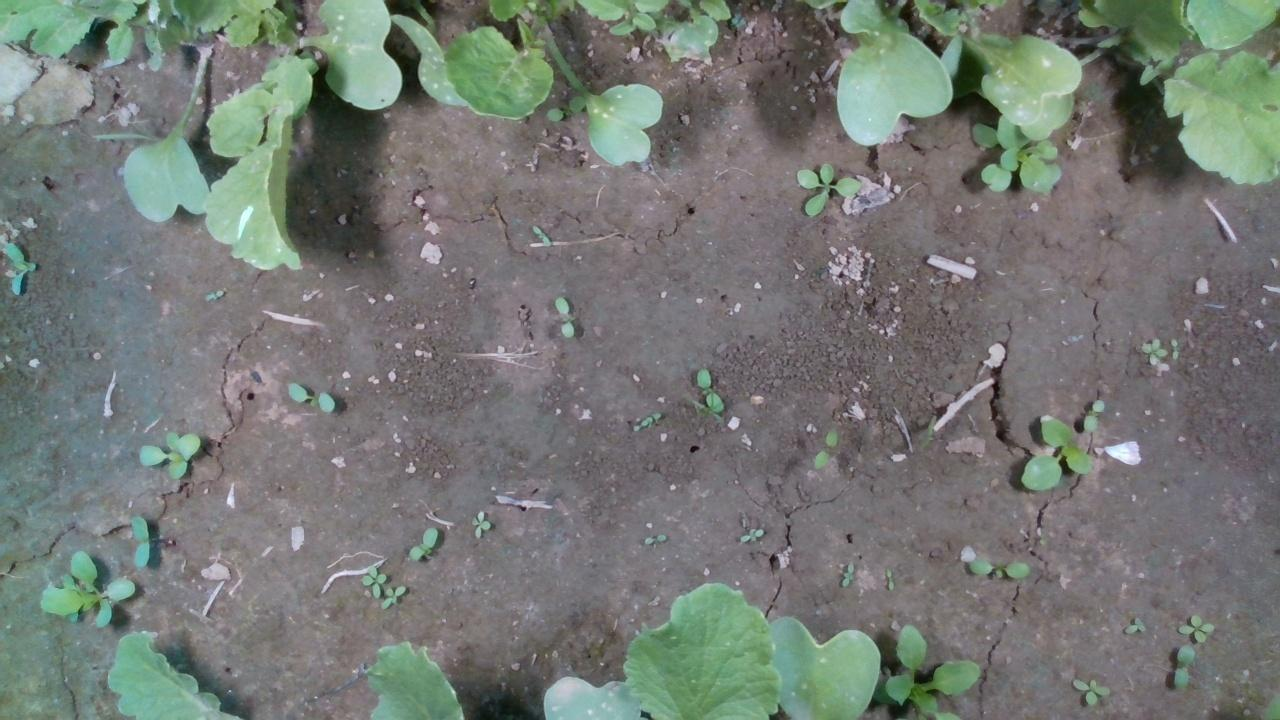weed: (793, 160, 860, 216), (284, 380, 335, 412), (127, 511, 151, 570), (966, 557, 1029, 579), (694, 366, 724, 412), (1175, 611, 1214, 643), (1173, 641, 1196, 692), (407, 524, 437, 563), (1071, 677, 1111, 706), (810, 426, 836, 470), (551, 294, 575, 339), (359, 560, 387, 598), (1082, 396, 1104, 433), (1138, 336, 1167, 364), (470, 508, 491, 539), (529, 225, 552, 247), (737, 525, 764, 542), (840, 558, 855, 586), (1122, 616, 1145, 634), (882, 565, 894, 590), (642, 532, 667, 544), (1169, 335, 1178, 360)
